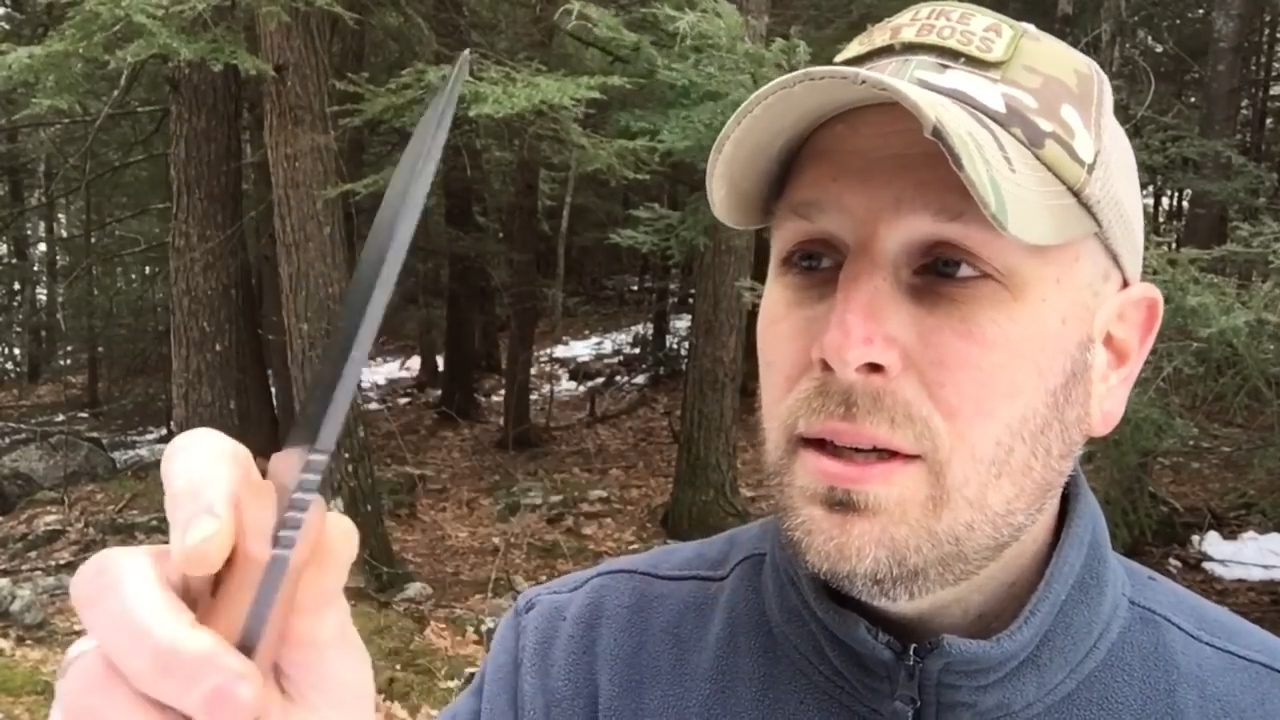knife: (157, 37, 485, 625)
